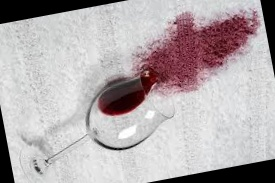wine: (127, 0, 261, 101)
